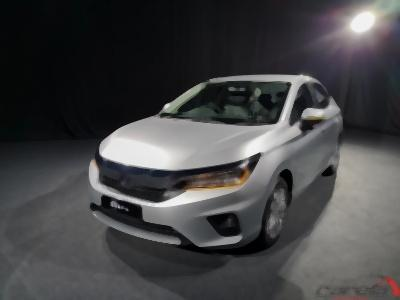Car hood: (98, 115, 277, 168)
Fender - -F-L-: (255, 119, 300, 223)
Front bumper: (86, 160, 269, 249)
Headlight - -L-: (175, 152, 263, 193)
Passenger-s door - -F-L-: (286, 68, 327, 208)
Side bumper - -L-: (291, 157, 335, 213)
Side mirror - -L-: (294, 106, 329, 133)
